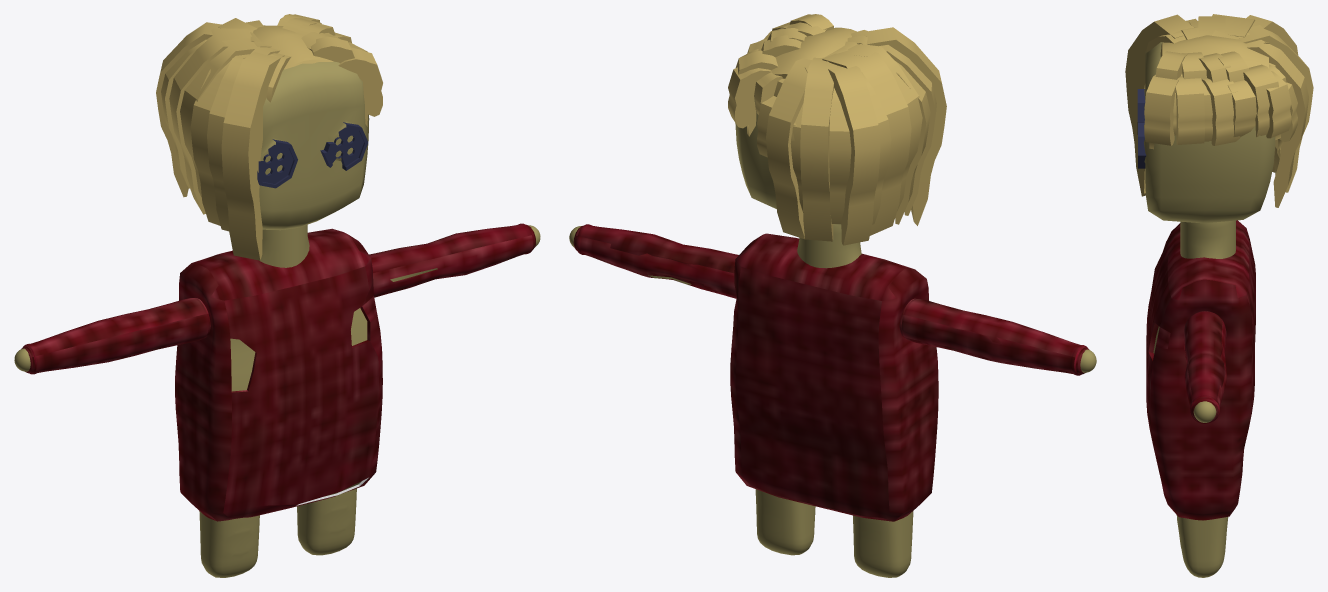
Rendered from CharFinal.fbx.
The picture shows the model from 3 angles, left to right: view 1: azimuth 30°, elevation 25°; view 2: azimuth 150°, elevation 25°; view 3: azimuth 270°, elevation 25°; orthographic projection. The views are drawn at different scales.
Parts seen in each view (by area): view 1: Leg_5; view 2: Leg_5; view 3: Leg_5.
Boxes of the visible parts, x1=… form: Leg_5: x1=14, y1=14, x2=540, y2=577; Leg_5: x1=569, y1=14, x2=1096, y2=577; Leg_5: x1=1125, y1=14, x2=1313, y2=577.
Bounding box in the file's own units: 3.57 × 3.44 × 1.14.
